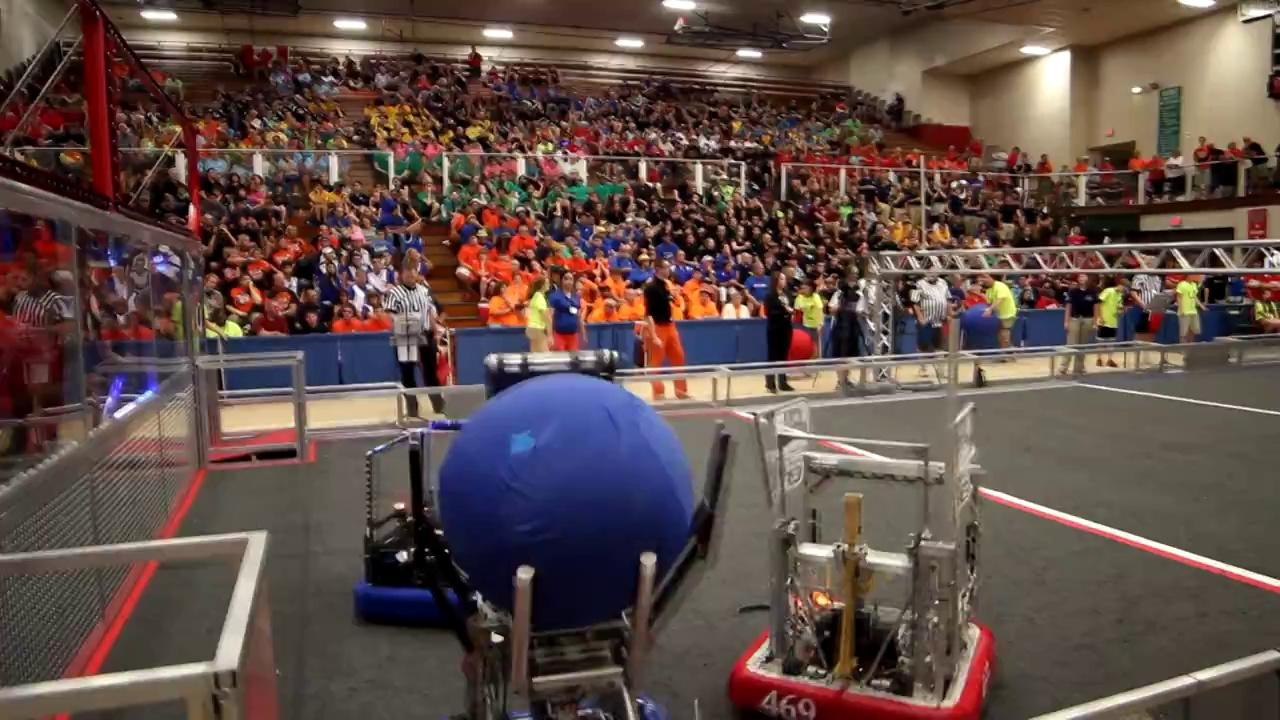robot: (730, 393, 997, 720), (354, 419, 544, 627)
